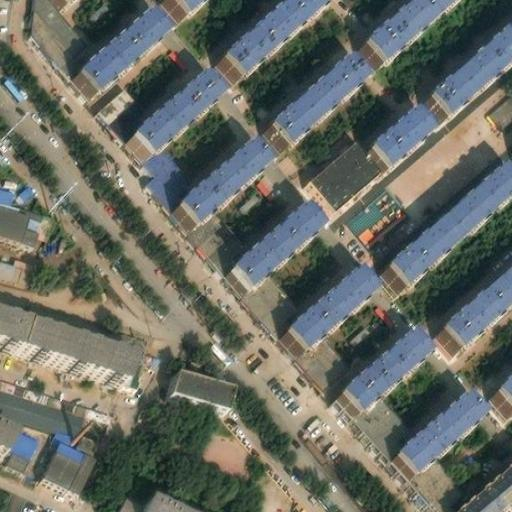building: (385, 163, 512, 290), (273, 43, 375, 137), (221, 196, 321, 291), (121, 68, 219, 164), (0, 315, 131, 386), (173, 137, 271, 228), (424, 16, 512, 116), (387, 391, 484, 481), (72, 8, 167, 96), (330, 328, 421, 419), (278, 267, 371, 352), (438, 259, 512, 348), (305, 140, 377, 209), (0, 382, 81, 430), (365, 104, 429, 164), (454, 461, 512, 512), (40, 440, 91, 492), (171, 365, 231, 400), (0, 200, 41, 241), (5, 425, 38, 464), (97, 82, 132, 115), (0, 72, 29, 106), (491, 371, 512, 409), (0, 257, 25, 286), (119, 493, 145, 512)
